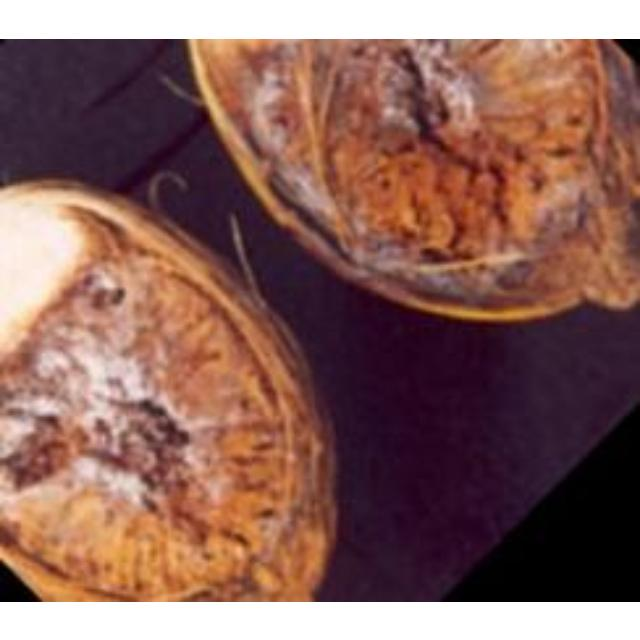damaged: (0, 174, 338, 599), (184, 38, 637, 327)
